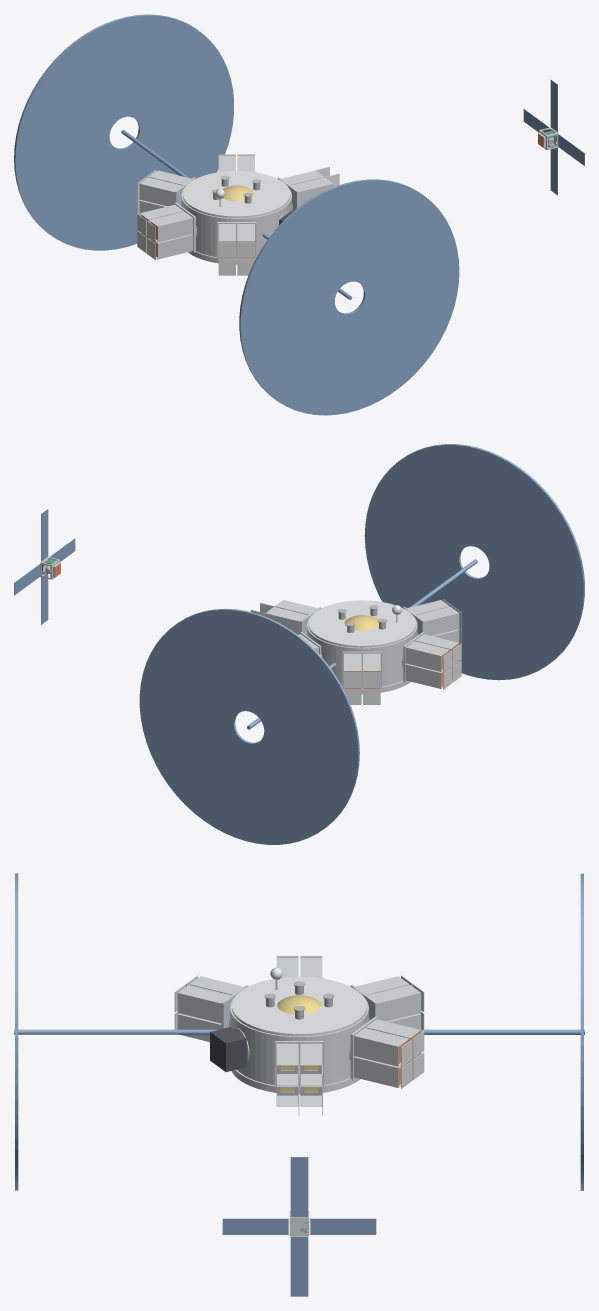
File: carrier_deployed.glb
The picture shows the model from 3 angles, top to bottom: view 1: azimuth 30°, elevation 25°; view 2: azimuth 150°, elevation 25°; view 3: azimuth 270°, elevation 25°; orthographic projection. The views are drawn at different scales.
Visible parts, largest first — view 1: array_1, array_0, top_deck, ring, tube_3_3, tube_2_3, tube_3_1, tube_0_2; view 2: array_0, array_1, top_deck, ring, tube_3_2, tube_4_2, tube_3_0, tube_0_3; view 3: top_deck, ring, array_1, array_0, tube_1_2, sensor_head, tube_4_3, tube_2_2, free_wing_0, free_wing_1, free_wing_2, free_wing_3 (+7 smaller).
Boxes of the visible parts, x1,y1,x2,y2 form: array_1: (239,179,459,415); array_0: (14,14,233,250); top_deck: (183,171,290,218); ring: (181,188,291,255); tube_3_3: (149,211,193,242); tube_2_3: (139,177,182,206); tube_3_1: (149,234,193,259); tube_0_2: (291,177,333,206); array_0: (139,608,359,844); array_1: (364,444,584,680); top_deck: (308,600,416,647); ring: (307,617,417,685); tube_3_2: (405,641,449,671); tube_4_2: (416,607,459,635); tube_3_0: (405,663,449,688); tube_0_3: (265,607,307,634); top_deck: (232,977,366,1036); ring: (230,998,368,1083); array_1: (14,873,217,1190); array_0: (420,873,584,1190); tube_1_2: (354,1028,409,1066); sensor_head: (210,1027,246,1071); tube_4_3: (177,985,230,1023); tube_2_2: (368,985,421,1021); free_wing_0: (290,1236,308,1296); free_wing_1: (290,1157,308,1217); free_wing_2: (310,1218,376,1234); free_wing_3: (222,1218,288,1234).
Size of the model in its own units: 7.03 by 3.6 by 6.47.
